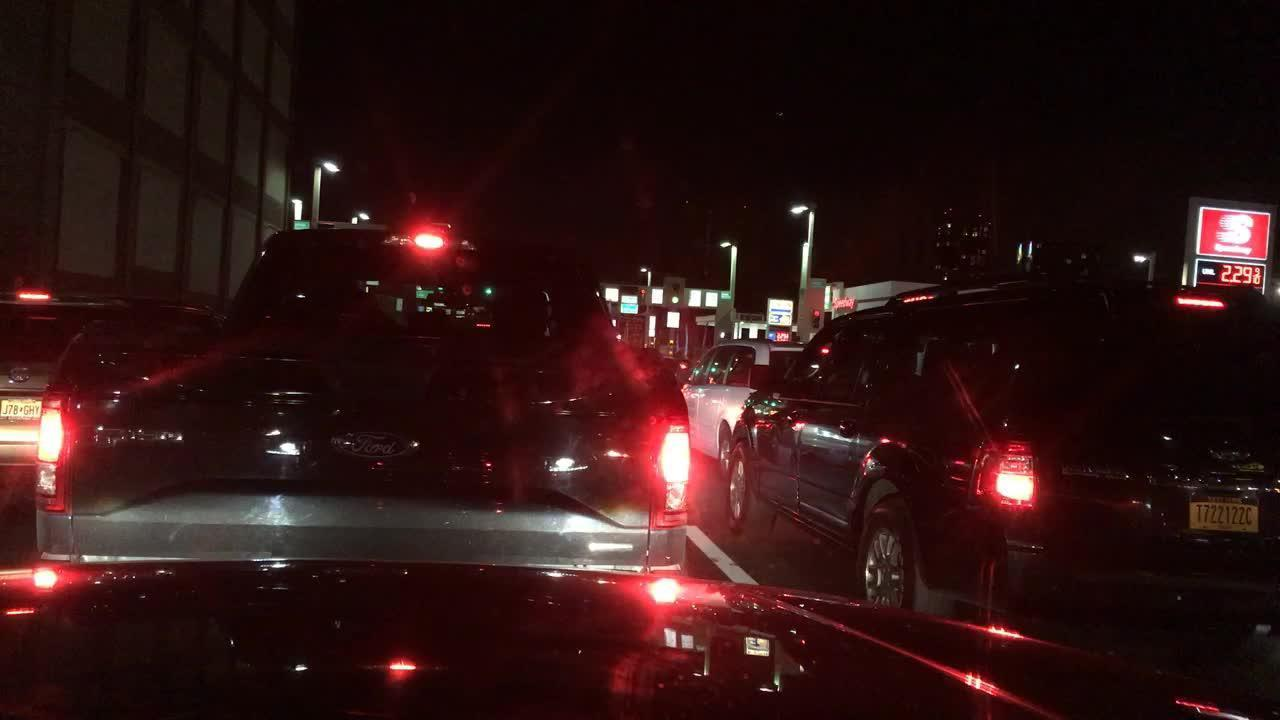ford: (330, 424, 422, 468)
